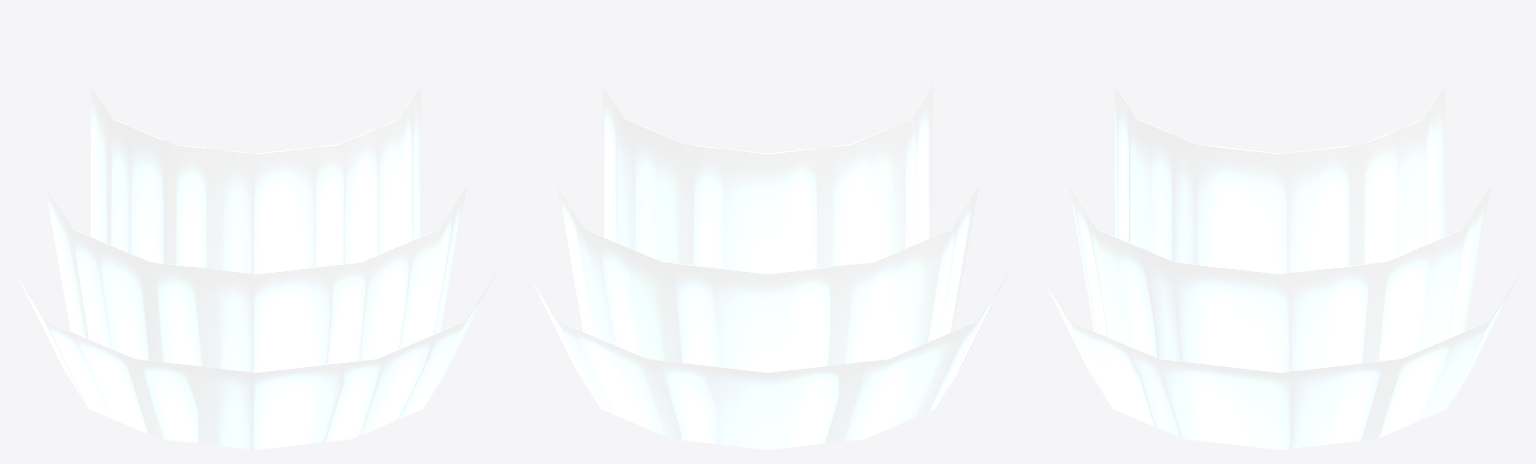
Rendered from sfx_common_condition_sky.glb.
The picture shows the model from 3 angles, left to right: view 1: azimuth 30°, elevation 25°; view 2: azimuth 150°, elevation 25°; view 3: azimuth 270°, elevation 25°; orthographic projection.
Parts seen in each view (by area): view 1: sfx_common_condition_sky_obj0, sfx_common_condition_sky_obj1, sfx_common_condition_sky_obj2; view 2: sfx_common_condition_sky_obj0, sfx_common_condition_sky_obj1, sfx_common_condition_sky_obj2; view 3: sfx_common_condition_sky_obj0, sfx_common_condition_sky_obj1, sfx_common_condition_sky_obj2.
Part boxes in pixels (x1,y1,x2,y2): sfx_common_condition_sky_obj0: (91, 84, 420, 273); sfx_common_condition_sky_obj1: (45, 185, 466, 372); sfx_common_condition_sky_obj2: (16, 273, 495, 449); sfx_common_condition_sky_obj0: (603, 84, 932, 273); sfx_common_condition_sky_obj1: (557, 185, 978, 372); sfx_common_condition_sky_obj2: (528, 273, 1007, 449); sfx_common_condition_sky_obj0: (1115, 84, 1444, 273); sfx_common_condition_sky_obj1: (1069, 185, 1490, 372); sfx_common_condition_sky_obj2: (1040, 273, 1519, 449).
Bounding box in the file's own units: 0.7606 × 0.4948 × 0.7606.
1 material, 1 textured.
